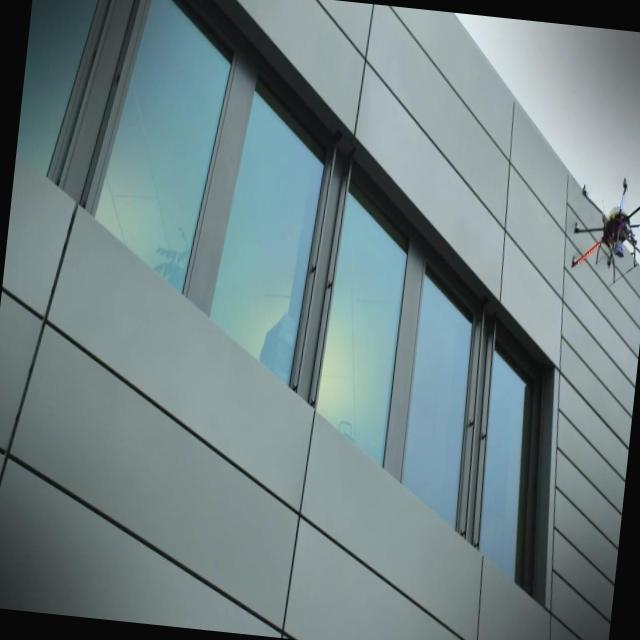drone: (565, 170, 640, 290)
